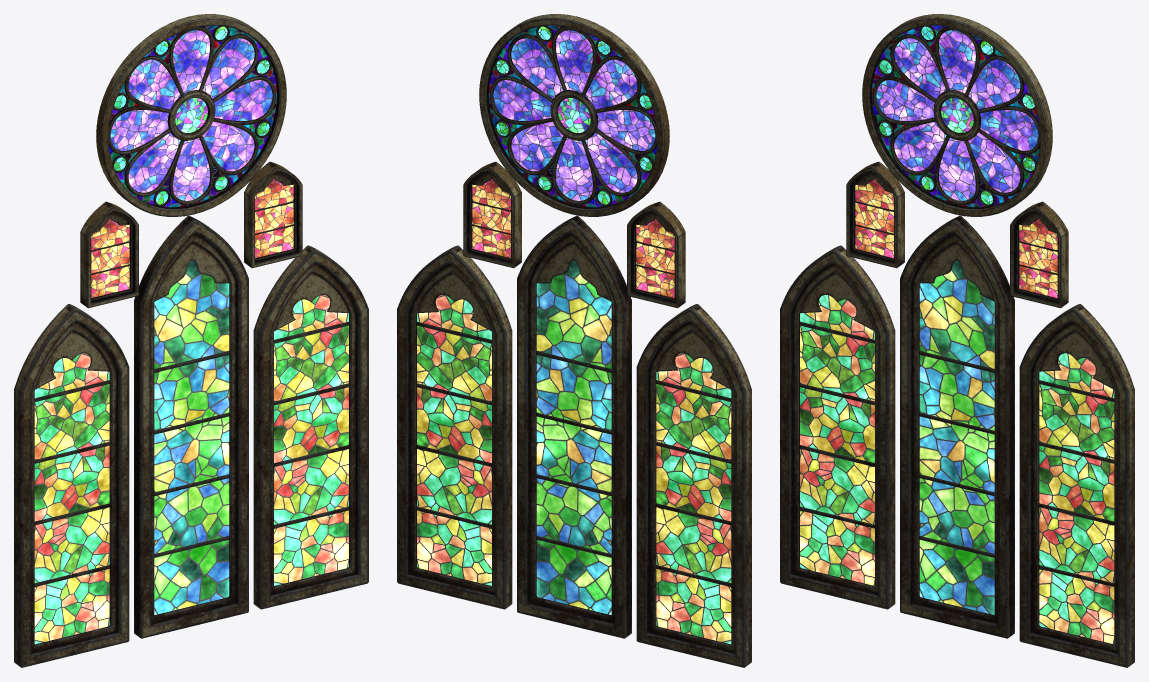
The model's file is stained_glass.glb.
3 renders of one model, left to right at view 1: azimuth 30°, elevation 25°; view 2: azimuth 150°, elevation 25°; view 3: azimuth 330°, elevation 25°, orthographic.
Visible parts, largest first — view 1: Plane.001, Cube.006, Cube.012, Circle.002, Cube.007, Cube.005; view 2: Plane.001, Cube.006, Cube.012, Circle.002, Cube.007, Cube.005; view 3: Plane.001, Cube.012, Cube.006, Circle.002, Cube.005, Cube.007.
Part boxes in pixels (x1,y1,x2,y2): Plane.001: (134,215,248,638); Cube.006: (14,304,129,667); Cube.012: (253,245,368,609); Circle.002: (96,14,286,216); Cube.007: (80,201,138,308); Cube.005: (244,161,302,268); Plane.001: (517,215,631,638); Cube.006: (636,304,751,667); Cube.012: (397,245,512,609); Circle.002: (479,14,669,216); Cube.007: (627,201,685,308); Cube.005: (463,161,521,268); Plane.001: (900,215,1014,638); Cube.012: (1019,304,1134,667); Cube.006: (780,245,895,609); Circle.002: (862,14,1052,216); Cube.005: (1010,201,1068,308); Cube.007: (846,161,904,268).
Bounding box in the file's own units: 3389 × 5626 × 129.
3 materials, 3 textured.
